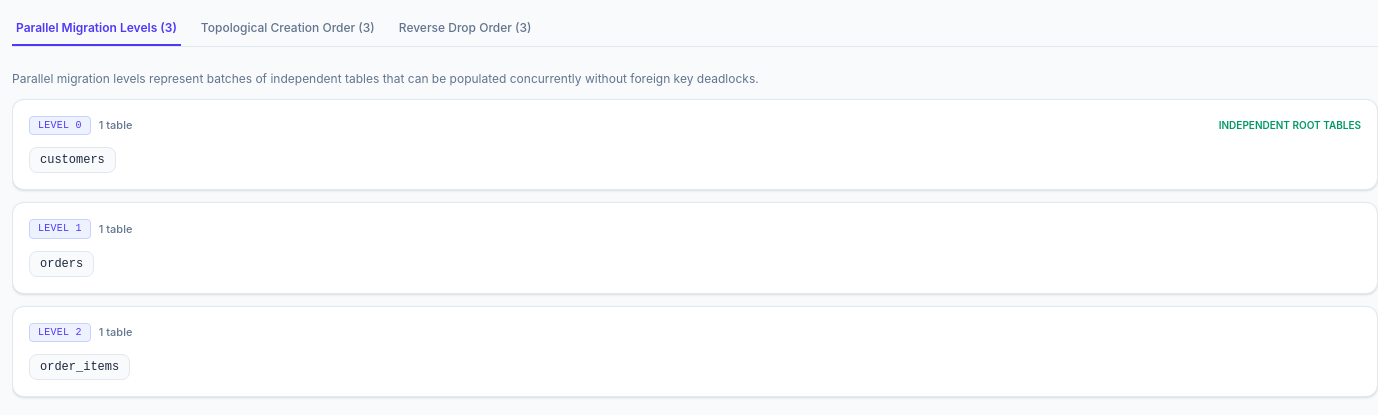
Test case: Component: ExecutionOrderingPanel › renders parallel levels and switches to creation order
Expected: the text "LEVEL 0" is shown, [29,116,91,135]
Expected: the text "Independent Root Tables" is shown, [1219,119,1361,132]
// Switch to Creation Order
Click the button "Topological Creation Order (3)" at (288, 29), box [197,12,379,46]
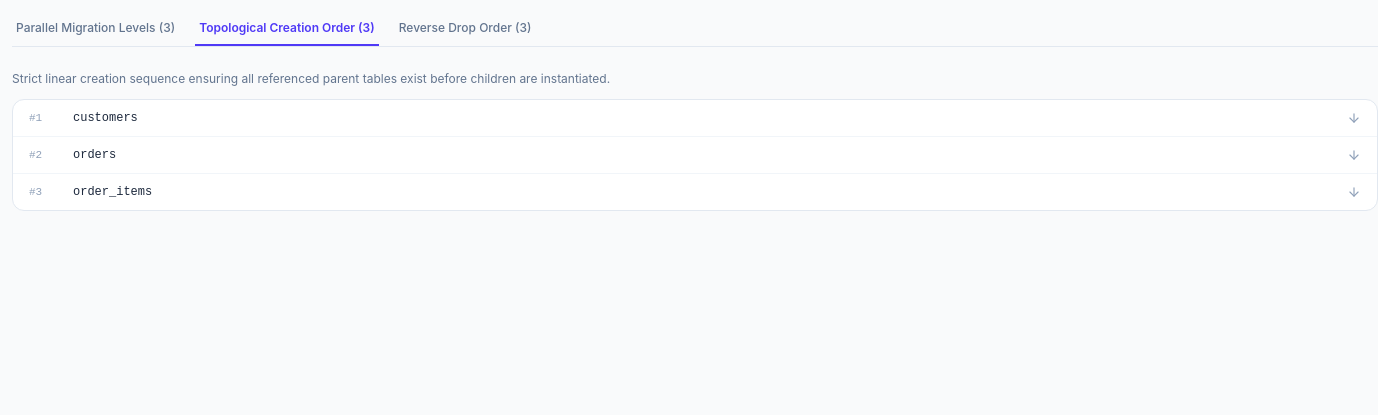
Now the text "#1" is shown, box [29,112,42,124]
Now the text "#2" is shown, box [29,149,42,161]
Now the text "#3" is shown, box [29,186,42,198]
